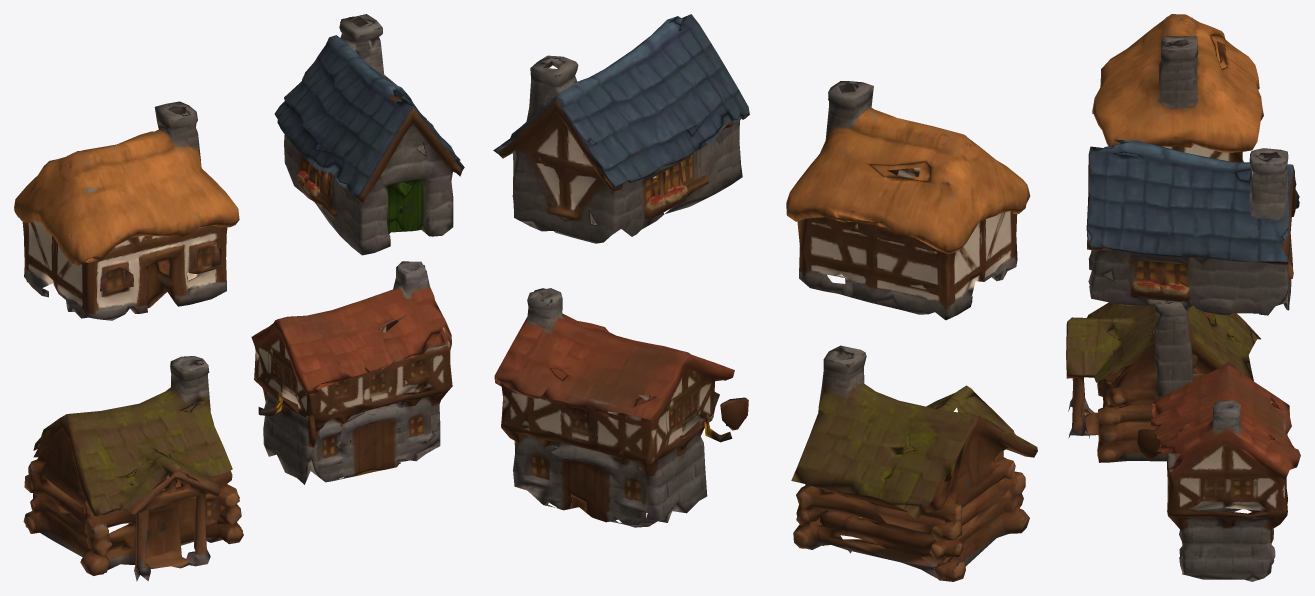
The picture shows the model from 3 angles, left to right: view 1: azimuth 30°, elevation 25°; view 2: azimuth 150°, elevation 25°; view 3: azimuth 270°, elevation 25°; orthographic projection. The views are drawn at different scales.
Parts seen in each view (by area): view 1: world; view 2: world; view 3: world.
Part boxes in pixels (x1=…): world: x1=14, y1=14, x2=464, y2=581; world: x1=493, y1=14, x2=1037, y2=581; world: x1=1066, y1=14, x2=1300, y2=581.
Size of the model in its own units: 0.996 by 0.9546 by 0.491.
1 material, 1 textured.
